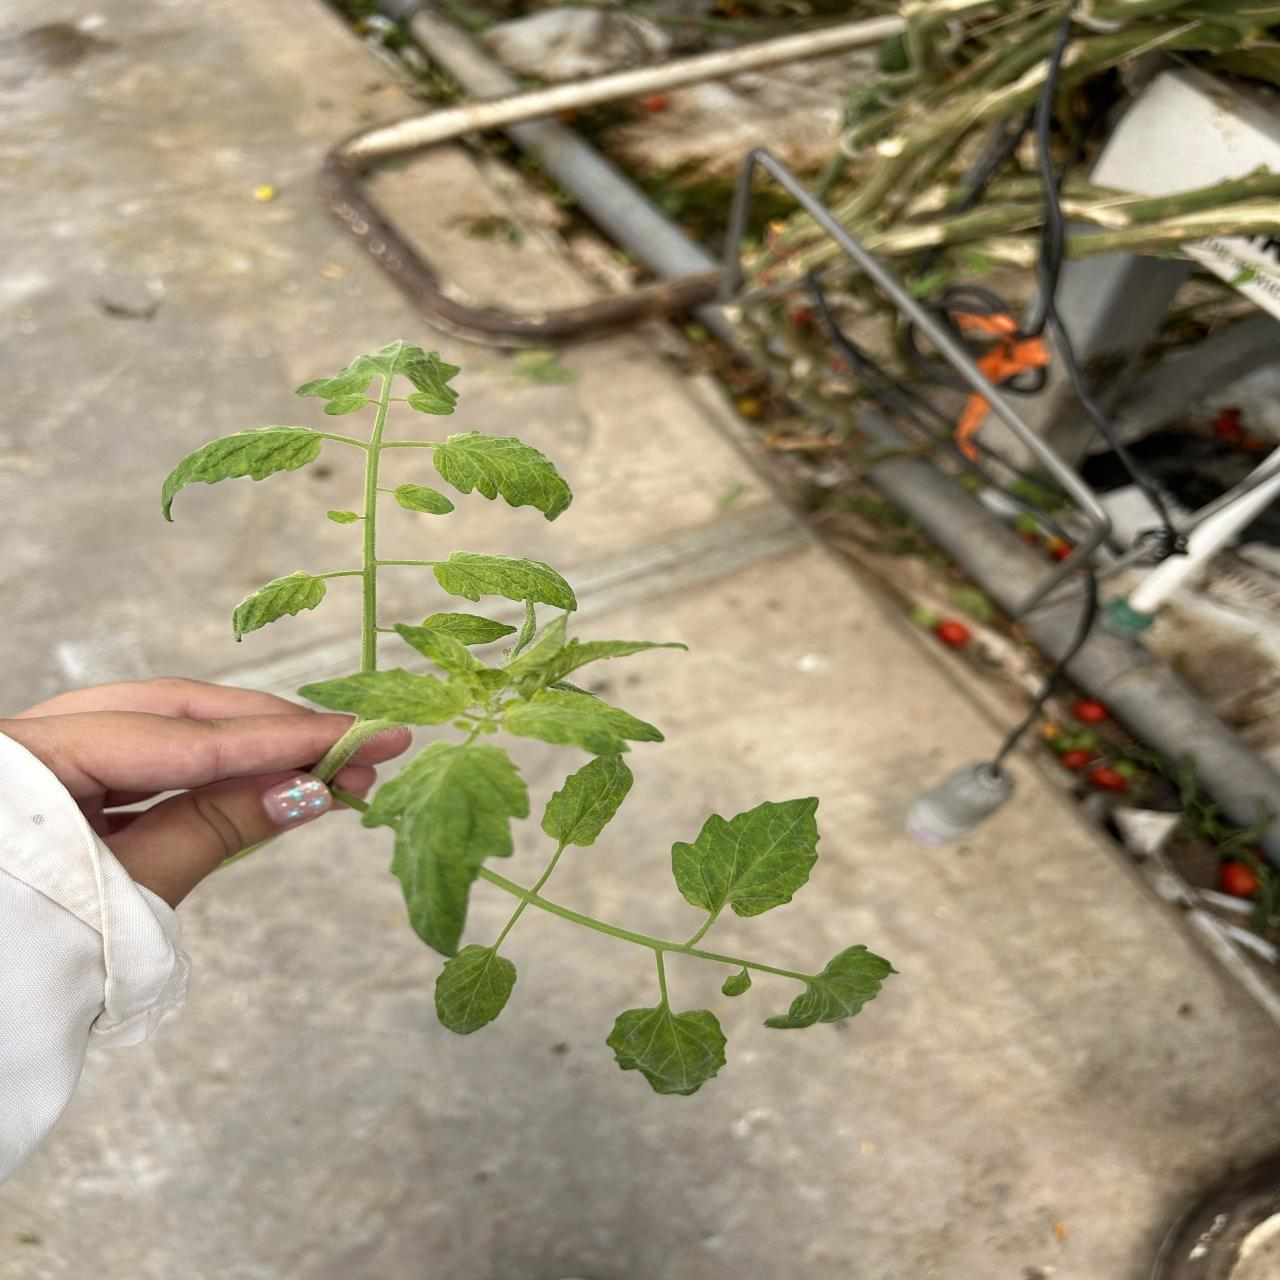Hoja rugoso: (362, 742, 529, 956), (672, 797, 819, 920), (607, 963, 726, 1095), (162, 427, 325, 520), (506, 620, 687, 698), (433, 432, 572, 520), (297, 341, 458, 415), (765, 945, 893, 1029), (500, 691, 664, 755), (298, 669, 469, 724), (541, 755, 632, 849), (435, 552, 575, 610), (435, 945, 516, 1034), (232, 572, 326, 641), (396, 624, 483, 676), (422, 613, 515, 645), (393, 484, 454, 515), (722, 968, 751, 996), (328, 511, 361, 523)
Pedunculo: (334, 345, 422, 672), (482, 869, 680, 951), (311, 716, 403, 785)
